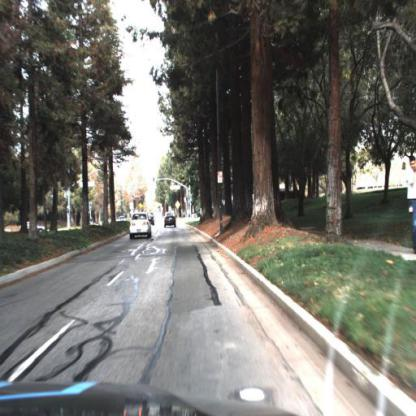car: (129, 211, 152, 242), (164, 210, 179, 230), (27, 221, 47, 234)
trafficLight-Green: (191, 193, 194, 205), (153, 175, 156, 186)
